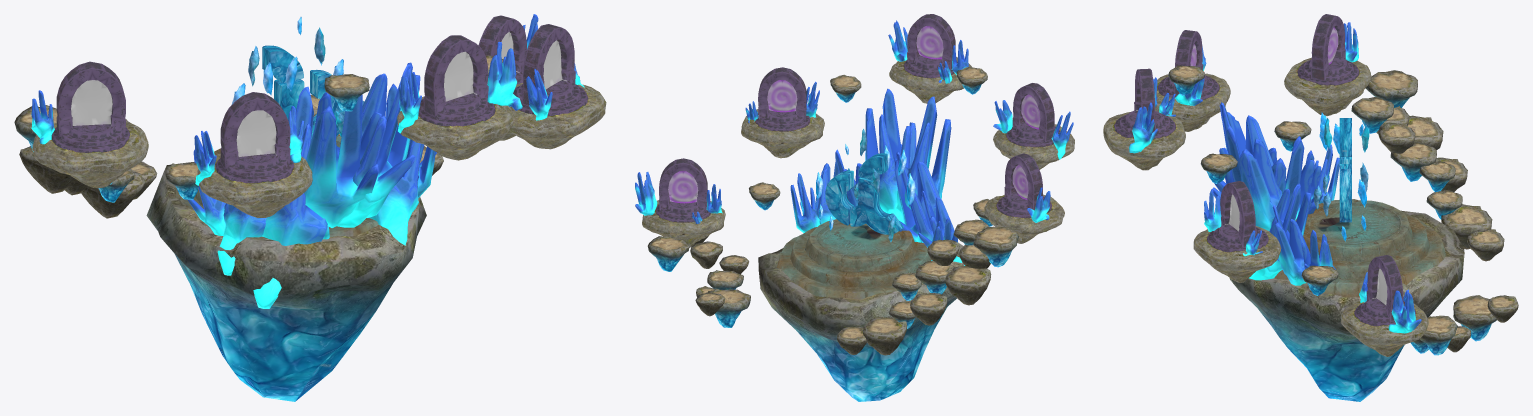
The model's file is Daskom Compressed.gltf.
3 views of the same model, side by side, from view 1: azimuth 30°, elevation 25°; view 2: azimuth 150°, elevation 25°; view 3: azimuth 270°, elevation 25° (orthographic). The views are drawn at different scales.
Parts seen in each view (by area): view 1: Final:polySurface1polySurface130.023, Final:polySurface43, Final:polySurface42, Final:polySurface3, Final:polySurface49, Final:polySurface5polySurface43.019, Final:polySurface5polySurface43.018, Final:polySurface5polySurface43.022, Final:polySurface5polySurface43.017, Plane.001, Final:polySurface25, Final:polySurface5polySurface43.021 (+15 smaller); view 2: Final:polySurface1polySurface130.023, Final:polySurface50, Final:polySurface49, Final:polySurface25, Final:polySurface3, Final:polySurface43, Final:polySurface42, Plane.001, Final:polySurface5polySurface43.018, Final:polySurface5polySurface43.019, Final:polySurface5polySurface43.022, Final:polySurface1polySurface130.014 (+27 smaller); view 3: Final:polySurface1polySurface130.023, Final:polySurface50, Final:polySurface43, Final:polySurface49, Final:polySurface25, Final:polySurface3, Final:polySurface42, Final:polySurface5polySurface43.018, Final:polySurface5polySurface43.022, Final:polySurface5polySurface43.017, Final:polySurface5polySurface43.016, Plane.001 (+26 smaller).
Part boxes in pixels (<box>): Final:polySurface1polySurface130.023: <box>146,161,426,401</box>; Final:polySurface43: <box>32,61,148,187</box>; Final:polySurface42: <box>197,92,312,217</box>; Final:polySurface3: <box>397,35,513,160</box>; Final:polySurface49: <box>508,24,606,149</box>; Final:polySurface5polySurface43.019: <box>304,92,381,227</box>; Final:polySurface5polySurface43.018: <box>337,62,420,227</box>; Final:polySurface5polySurface43.022: <box>253,86,336,308</box>; Final:polySurface5polySurface43.017: <box>370,83,420,245</box>; Plane.001: <box>262,45,344,139</box>; Final:polySurface25: <box>478,15,526,140</box>; Final:polySurface5polySurface43.021: <box>217,203,266,275</box>; Final:polySurface1polySurface130.023: <box>758,242,963,401</box>; Final:polySurface50: <box>777,219,931,299</box>; Final:polySurface49: <box>741,67,824,158</box>; Final:polySurface25: <box>642,158,725,247</box>; Final:polySurface3: <box>889,14,971,103</box>; Final:polySurface43: <box>984,153,1064,243</box>; Final:polySurface42: <box>993,83,1074,169</box>; Plane.001: <box>825,153,903,234</box>; Final:polySurface5polySurface43.018: <box>865,88,916,212</box>; Final:polySurface5polySurface43.019: <box>887,96,951,223</box>; Final:polySurface5polySurface43.022: <box>894,151,940,242</box>; Final:polySurface1polySurface130.014: <box>945,265,991,305</box>; Final:polySurface1polySurface130.023: <box>1229,199,1464,401</box>; Final:polySurface50: <box>1274,200,1445,297</box>; Final:polySurface43: <box>1284,14,1371,116</box>; Final:polySurface49: <box>1193,181,1281,282</box>; Final:polySurface25: <box>1341,255,1428,356</box>; Final:polySurface3: <box>1103,68,1185,170</box>; Final:polySurface42: <box>1155,30,1230,131</box>; Final:polySurface5polySurface43.018: <box>1212,125,1282,230</box>; Final:polySurface5polySurface43.022: <box>1268,136,1316,220</box>; Final:polySurface5polySurface43.017: <box>1249,183,1311,280</box>; Final:polySurface5polySurface43.016: <box>1272,205,1310,285</box>; Plane.001: <box>1339,118,1351,222</box>.
Bounding box in the file's own units: 161 × 121 × 132.
6 materials, 6 textured.
